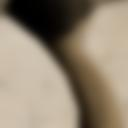broken_brick: (0, 17, 75, 127), (85, 0, 127, 127)
crack: (0, 0, 126, 127)
